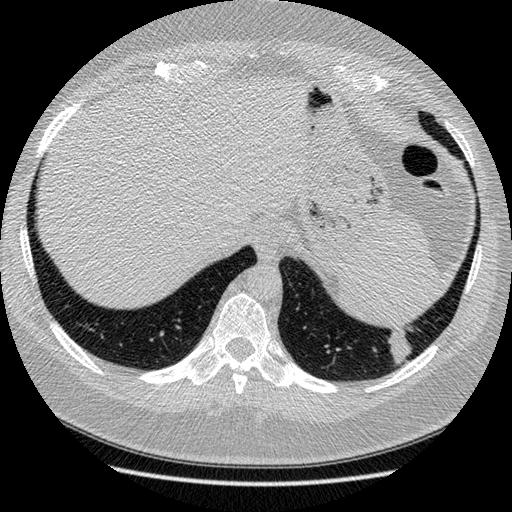nodule: (384, 329, 418, 363)
